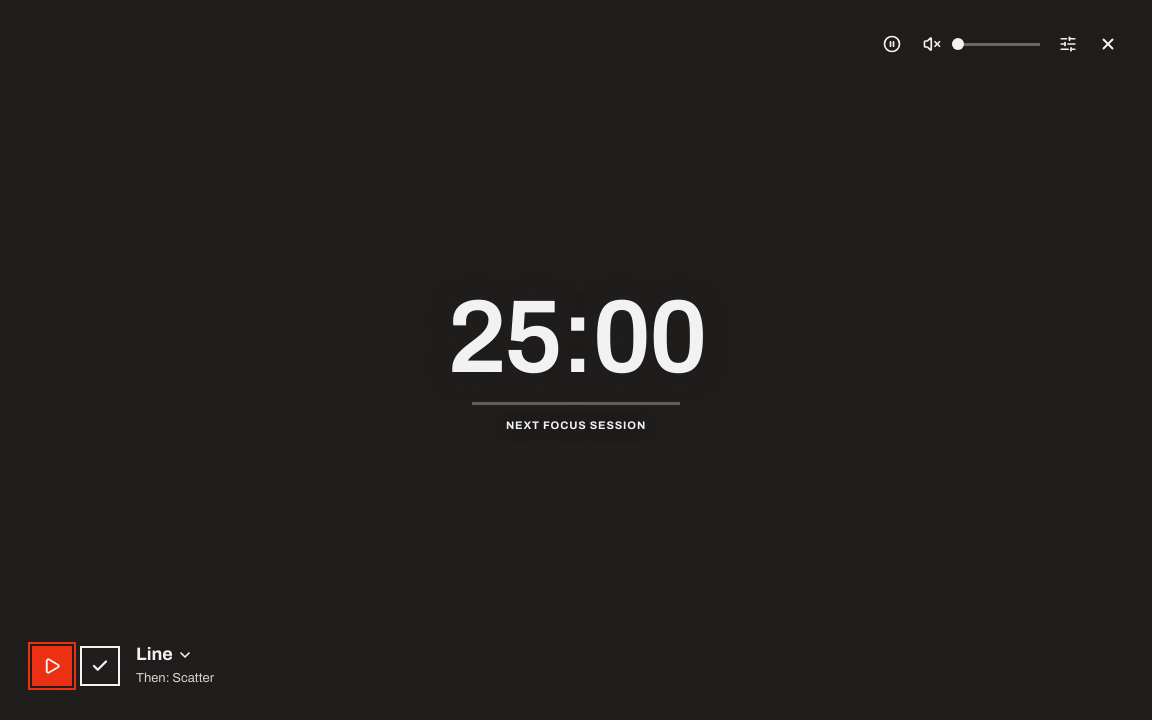
FocusMode › starts and pauses the shared timer
Click the button with class "fm-start": (52, 666) [32,646,72,686]
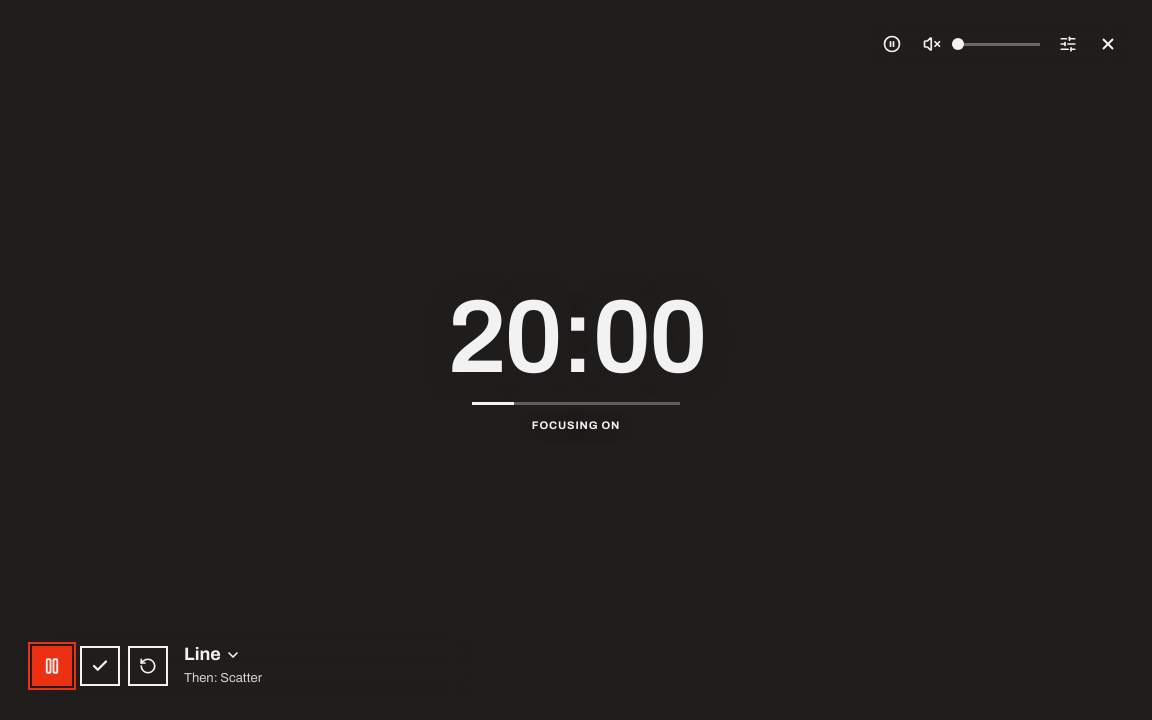
Expected: the text with class "fm-phase" reads "Focusing on", [532,419,620,431]
